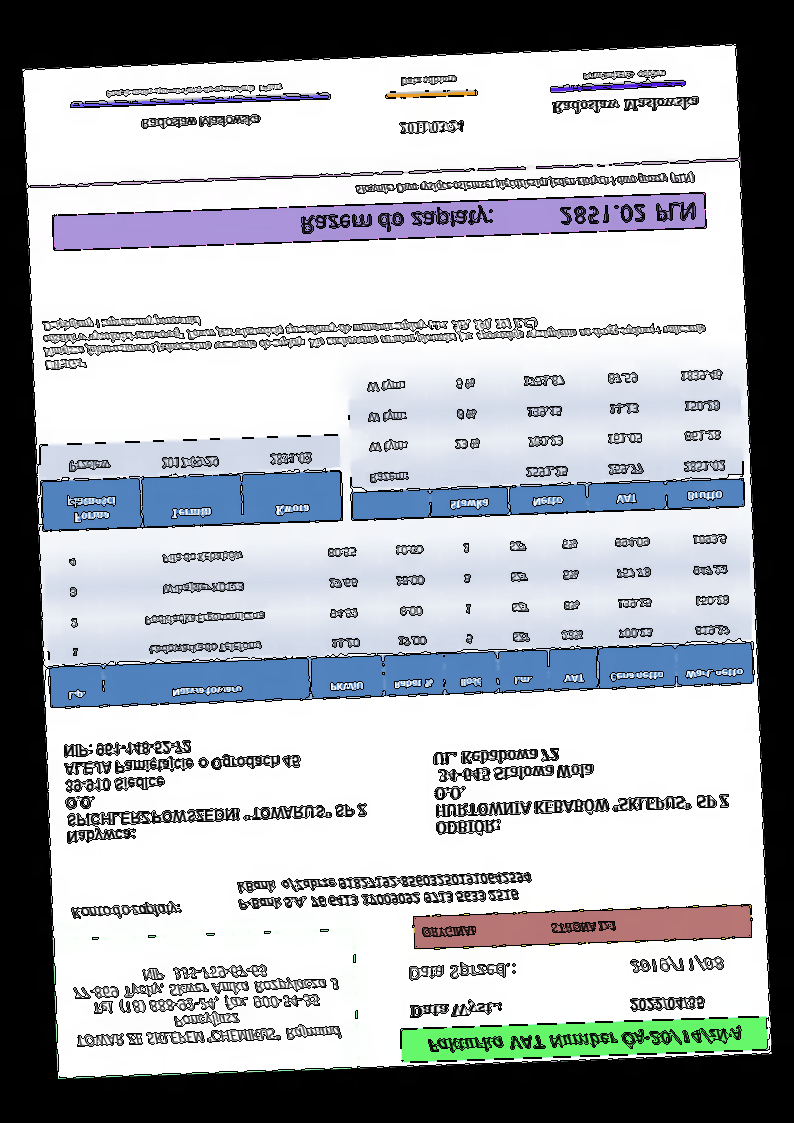Table: (42, 520, 754, 712), (343, 355, 746, 524), (39, 434, 342, 532)
TextBox: (42, 293, 711, 375), (60, 730, 372, 848), (429, 739, 734, 839), (67, 957, 345, 1054), (298, 196, 698, 238), (233, 867, 537, 914), (422, 1022, 745, 1057), (352, 168, 698, 200), (417, 915, 621, 942), (104, 80, 287, 103), (548, 92, 700, 117), (67, 898, 184, 926), (405, 958, 520, 984), (137, 113, 264, 133), (406, 997, 507, 1022), (626, 952, 727, 977), (627, 993, 706, 1016), (394, 116, 468, 138), (582, 66, 669, 84), (397, 72, 460, 90)
